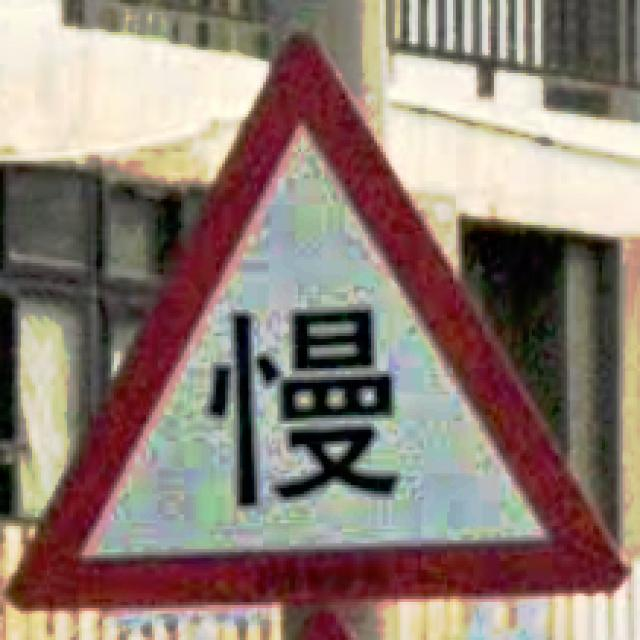slow: (6, 32, 631, 611)
